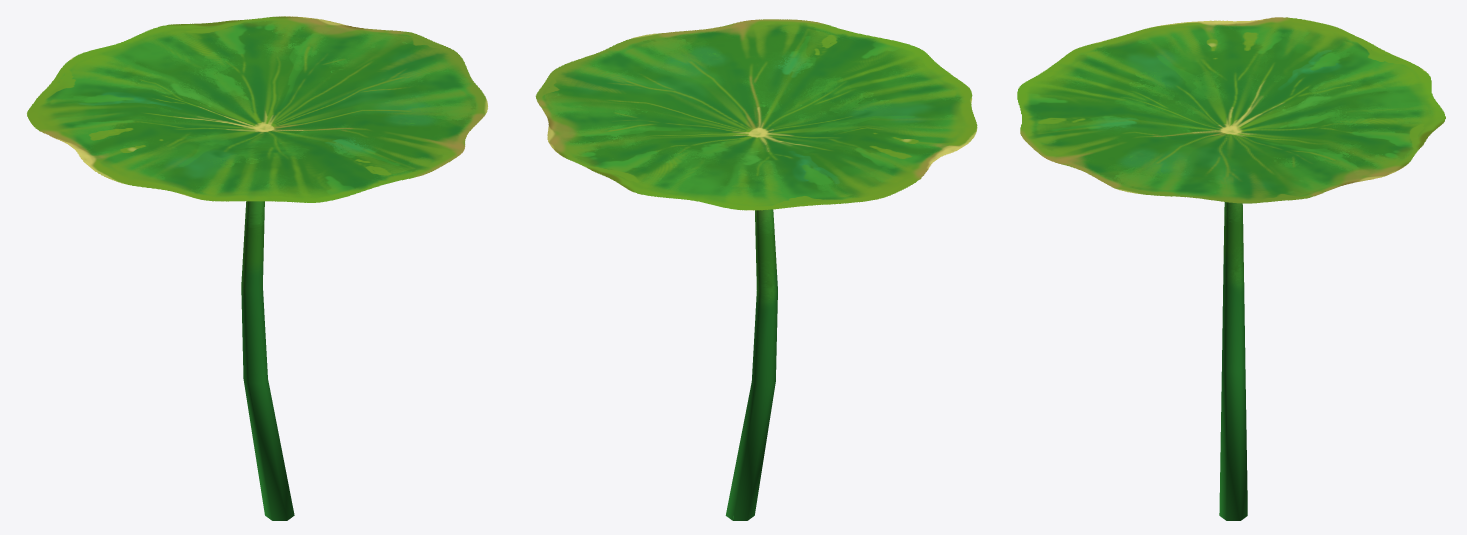
The model's file is Veg_Lotusleaf_02.fbx.
3 views of the same model, side by side, from view 1: azimuth 30°, elevation 25°; view 2: azimuth 150°, elevation 25°; view 3: azimuth 270°, elevation 25° (orthographic). The views are drawn at different scales.
Visible parts, largest first — view 1: Veg_Lotusleaf_02; view 2: Veg_Lotusleaf_02; view 3: Veg_Lotusleaf_02.
Part boxes in pixels (left/top/right/bottom): Veg_Lotusleaf_02: left=27, top=16, right=487, bottom=520; Veg_Lotusleaf_02: left=535, top=19, right=977, bottom=520; Veg_Lotusleaf_02: left=1017, top=17, right=1445, bottom=520.
Size of the model in its own units: 113 by 111 by 110.
